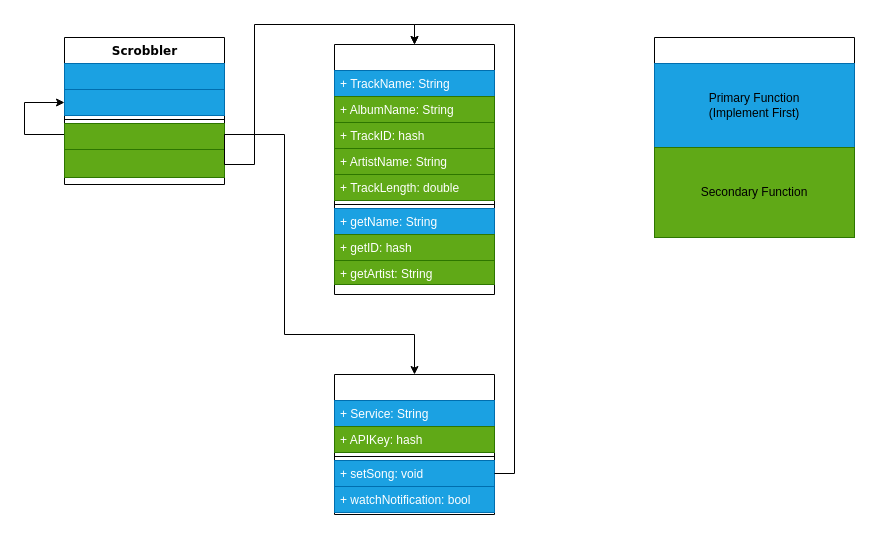
The diagram is 872 pixels wide and 533 high, and some of its shapes have lost their labels. Here are the shapes that lost their labels. From the top down, the box of each, then its label:
(64, 62, 224, 90): + User: hash
(64, 88, 224, 116): + SongLog: stack
(64, 122, 224, 150): + Scrobble(): void
(654, 36, 854, 238): Key
(64, 148, 224, 178): + Fetch(): Song
(334, 44, 494, 294): Song
(334, 374, 494, 514): NotificationFetcher
